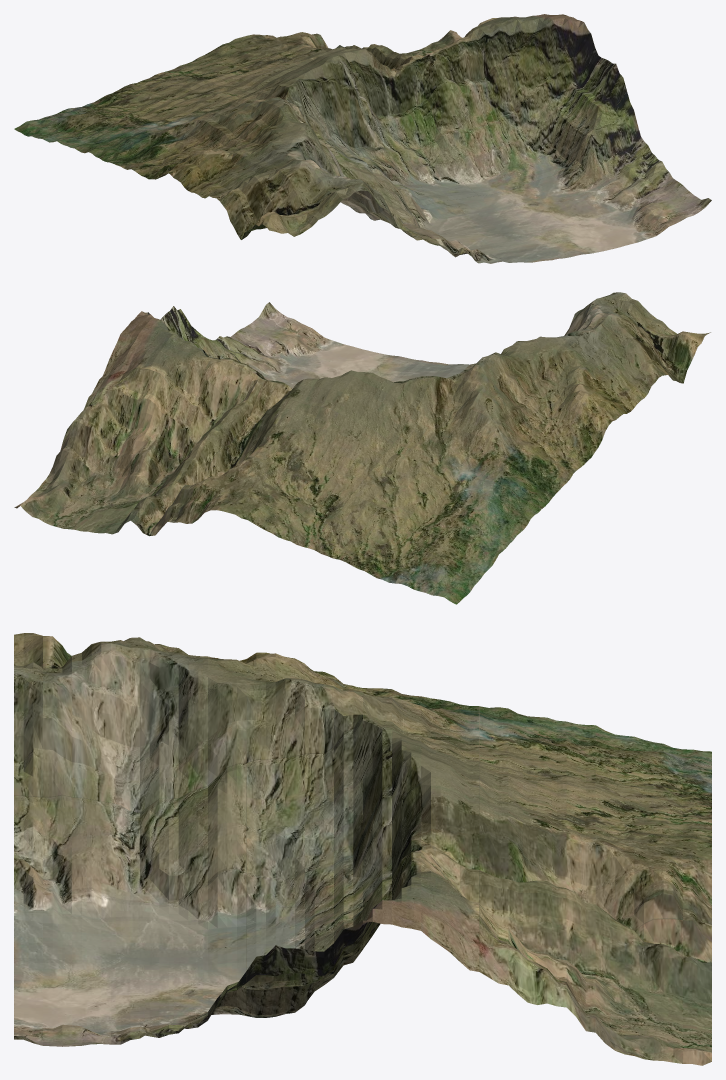
The picture shows the model from 3 angles, top to bottom: view 1: azimuth 30°, elevation 25°; view 2: azimuth 150°, elevation 25°; view 3: azimuth 270°, elevation 25°; orthographic projection. The views are drawn at different scales.
Parts seen in each view (by area): view 1: Layer 01; view 2: Layer 01; view 3: Layer 01.
Part boxes in pixels (box(x1,y1,x2,y2)): Layer 01: box(14, 14, 711, 263); Layer 01: box(14, 292, 710, 604); Layer 01: box(14, 633, 711, 1065).
Bounding box in the file's own units: 0.402 × 0.1149 × 0.402.
Materials: 1 (1 with a texture image).
